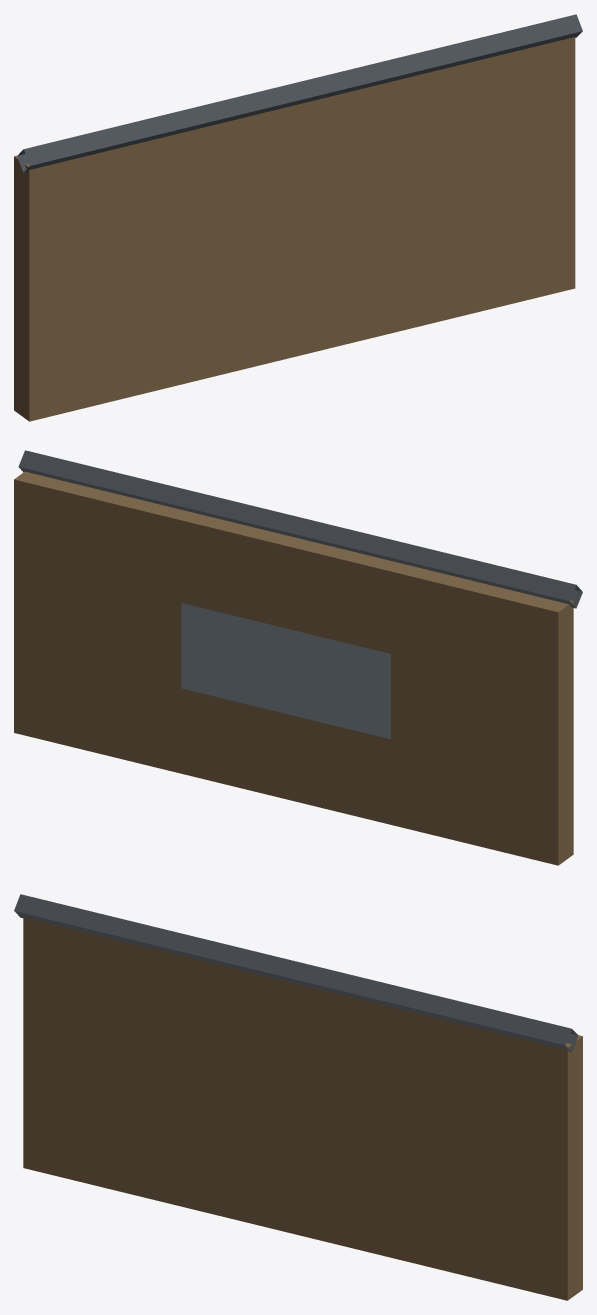
File: SM_Prop_Cafe_22.obj
3 renders of one model, top to bottom at view 1: azimuth 30°, elevation 25°; view 2: azimuth 150°, elevation 25°; view 3: azimuth 330°, elevation 25°, orthographic.
Visible parts, largest first — view 1: SM_Prop_Cafe_22_0; view 2: SM_Prop_Cafe_22_0; view 3: SM_Prop_Cafe_22_0.
Boxes of the visible parts, x1,y1,x2,y2 form: SM_Prop_Cafe_22_0: (14,14,582,421); SM_Prop_Cafe_22_0: (14,450,582,865); SM_Prop_Cafe_22_0: (14,894,582,1300).
Size of the model in its own units: 0.5419 by 0.2552 by 0.0346.
Materials: 1 (1 with a texture image).
